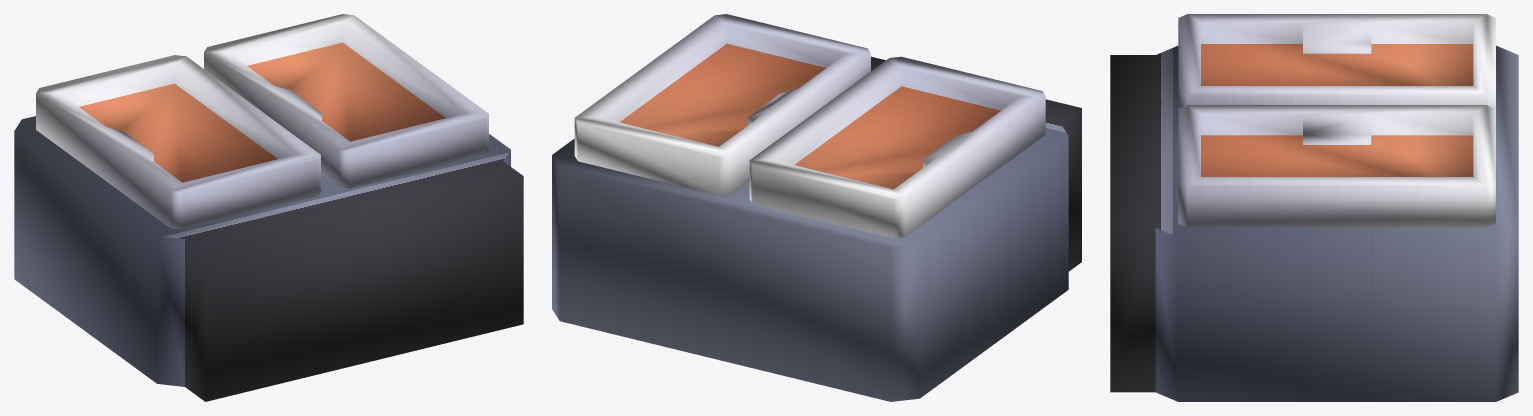
Rendered from freezers-standing.obj.
The picture shows the model from 3 angles, left to right: view 1: azimuth 30°, elevation 25°; view 2: azimuth 150°, elevation 25°; view 3: azimuth 270°, elevation 25°; orthographic projection. The views are drawn at different scales.
Visible parts, largest first — view 1: freezers-standing.004; view 2: freezers-standing.004; view 3: freezers-standing.004.
Boxes of the visible parts, <box> form: freezers-standing.004: <box>14,14,523,401</box>; freezers-standing.004: <box>552,14,1081,401</box>; freezers-standing.004: <box>1110,14,1518,401</box>.
Bounding box in the file's own units: 1 × 0.5 × 0.9.
